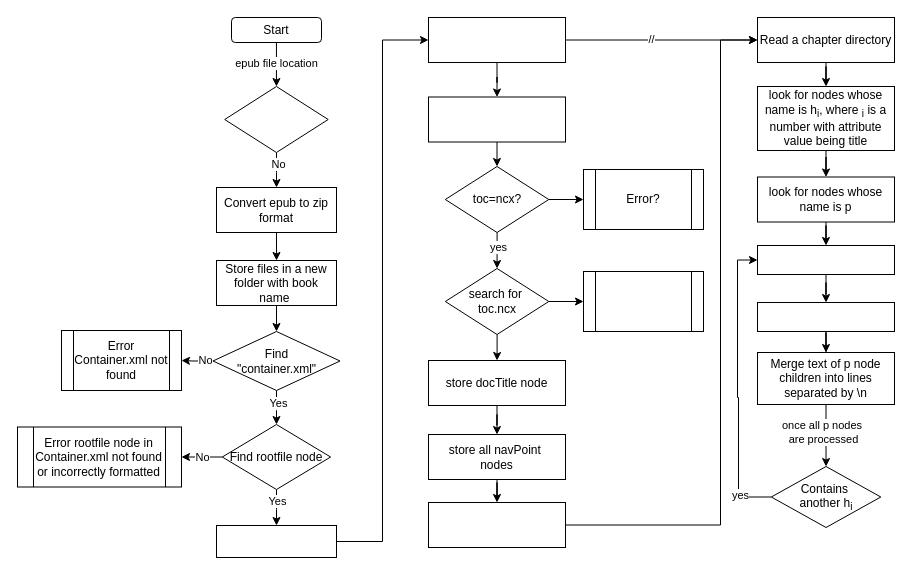
Image size: 912x575. Some labels were removed from this diagram. The centre of each missing label's shape, as x and y in pixels:
"Error The table of contents page is not found" belongs at pixel 643 301.
"h i nodes come first" belongs at pixel 825 259.
"Is file already processed" belongs at pixel 276 119.
"Read content.opf" belongs at pixel 276 541.
"Spin is the table of contents" belongs at pixel 497 119.
"Split file contents into metadata, manifest and spin" belongs at pixel 497 39.
"Store each chapter title to chapter directory" belongs at pixel 497 525.
"then the sibling p nodes" belongs at pixel 825 317.
